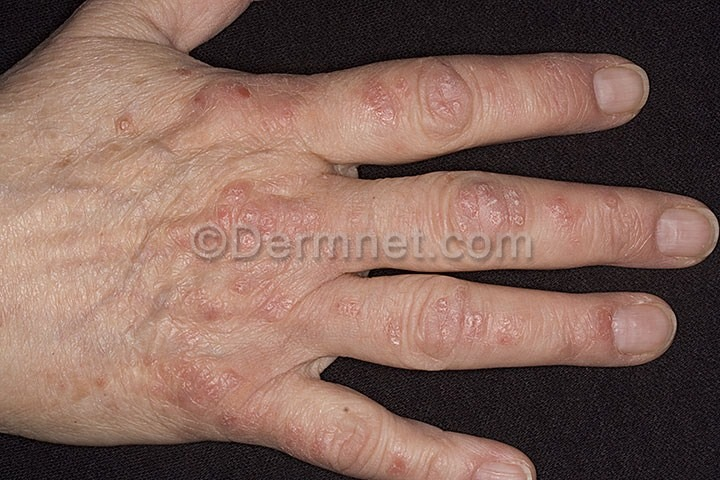Psoriasis: (183, 174, 326, 283), (145, 341, 266, 423), (166, 65, 283, 129), (439, 178, 531, 242), (343, 68, 428, 131), (432, 290, 524, 348), (339, 293, 406, 349), (275, 420, 337, 469), (544, 189, 595, 237), (590, 302, 630, 355)
